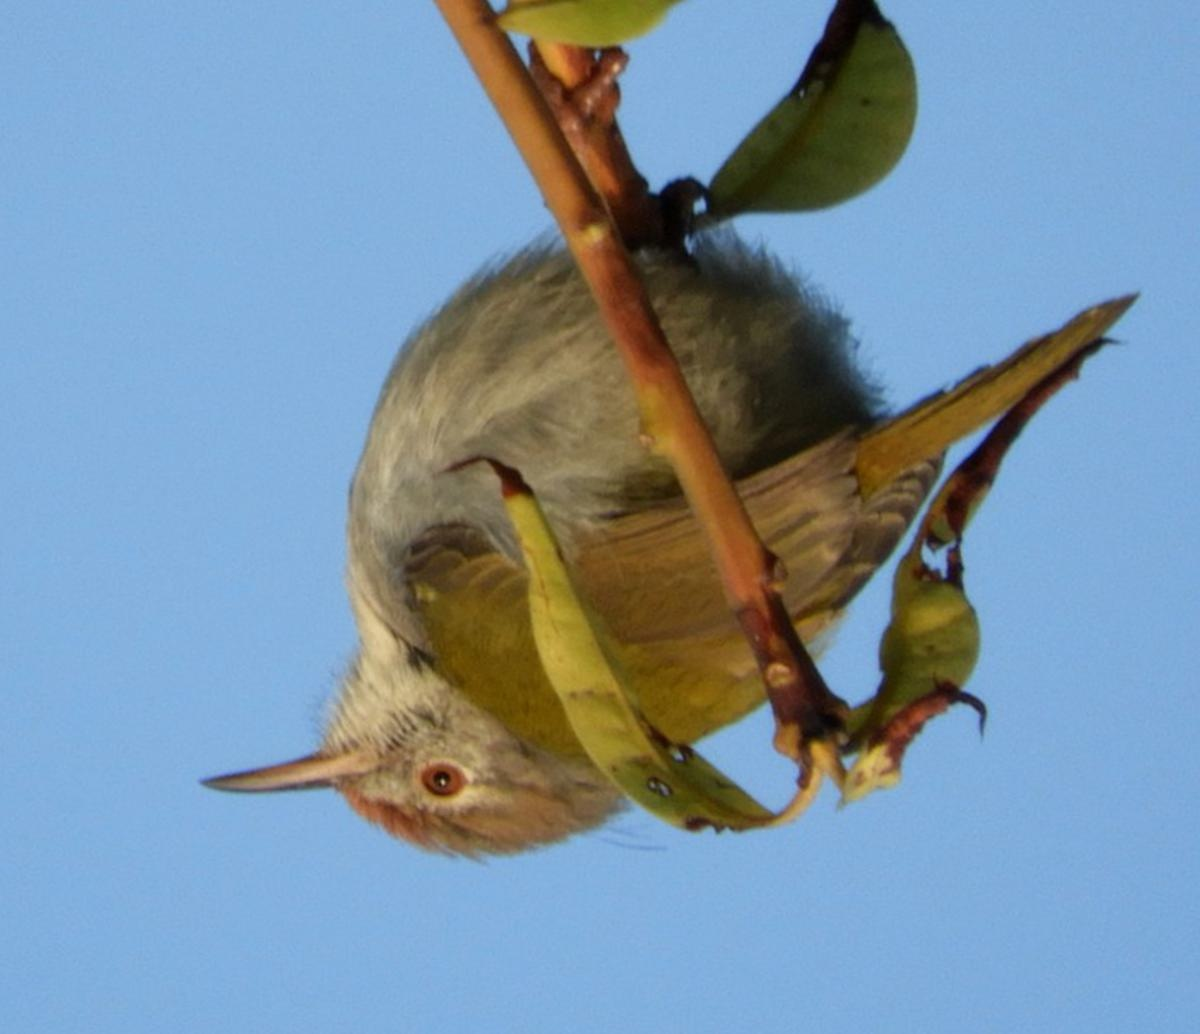tailorbird: (220, 178, 1111, 892)
